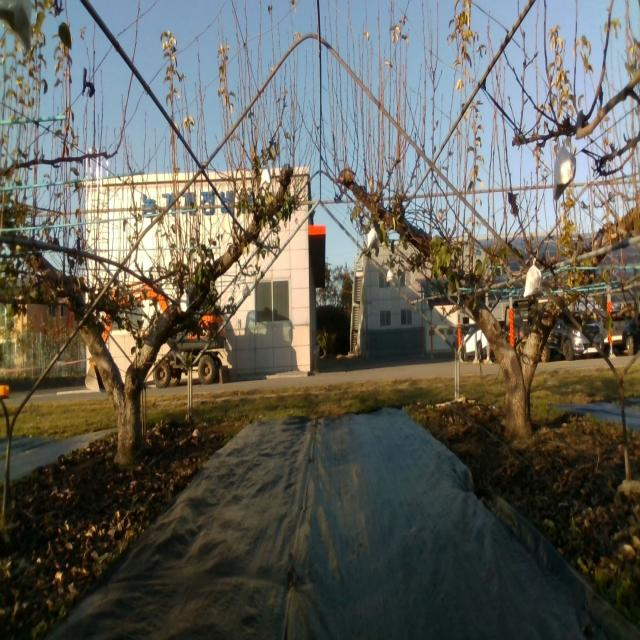pearbags: (553, 145, 577, 202), (523, 259, 543, 298), (260, 163, 270, 187)
